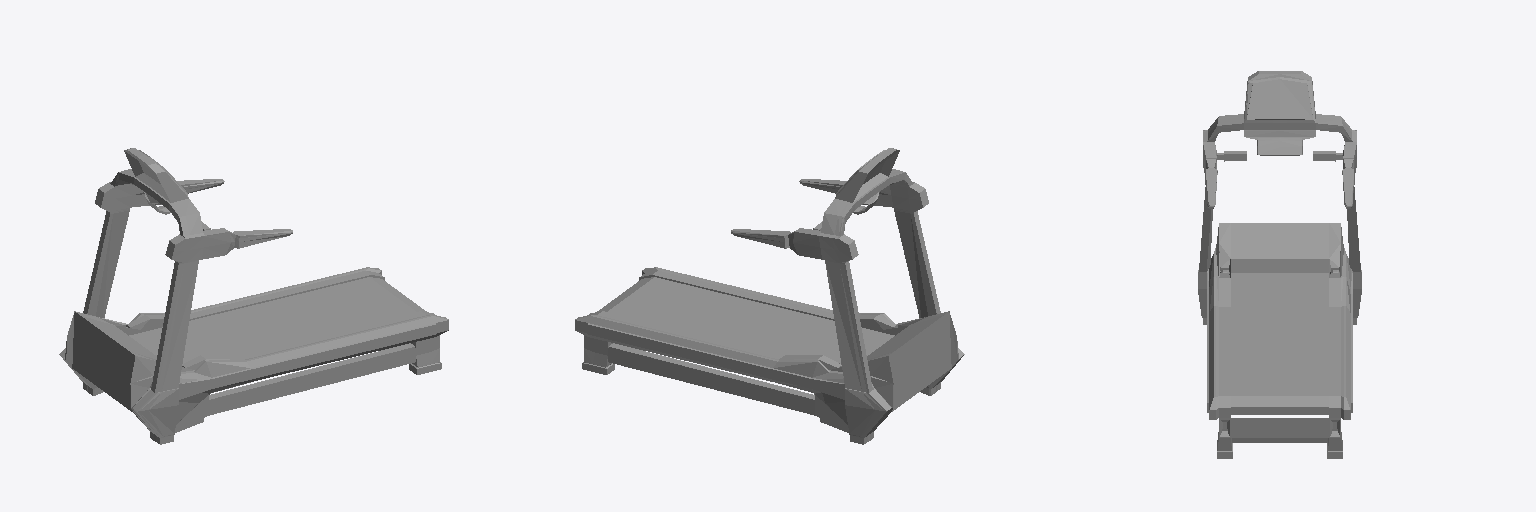
The model's file is treadmill.obj.
3 renders of one model, left to right at view 1: azimuth 30°, elevation 25°; view 2: azimuth 150°, elevation 25°; view 3: azimuth 270°, elevation 25°, orthographic.
Visible parts, largest first — view 1: treadmill; view 2: treadmill; view 3: treadmill.
Boxes of the visible parts, box(x1,y1,x2,y2) form: treadmill: box(59, 148, 448, 444); treadmill: box(575, 148, 964, 444); treadmill: box(1198, 71, 1361, 458).
Bounding box in the file's own units: 1.3 × 1 × 0.5857.